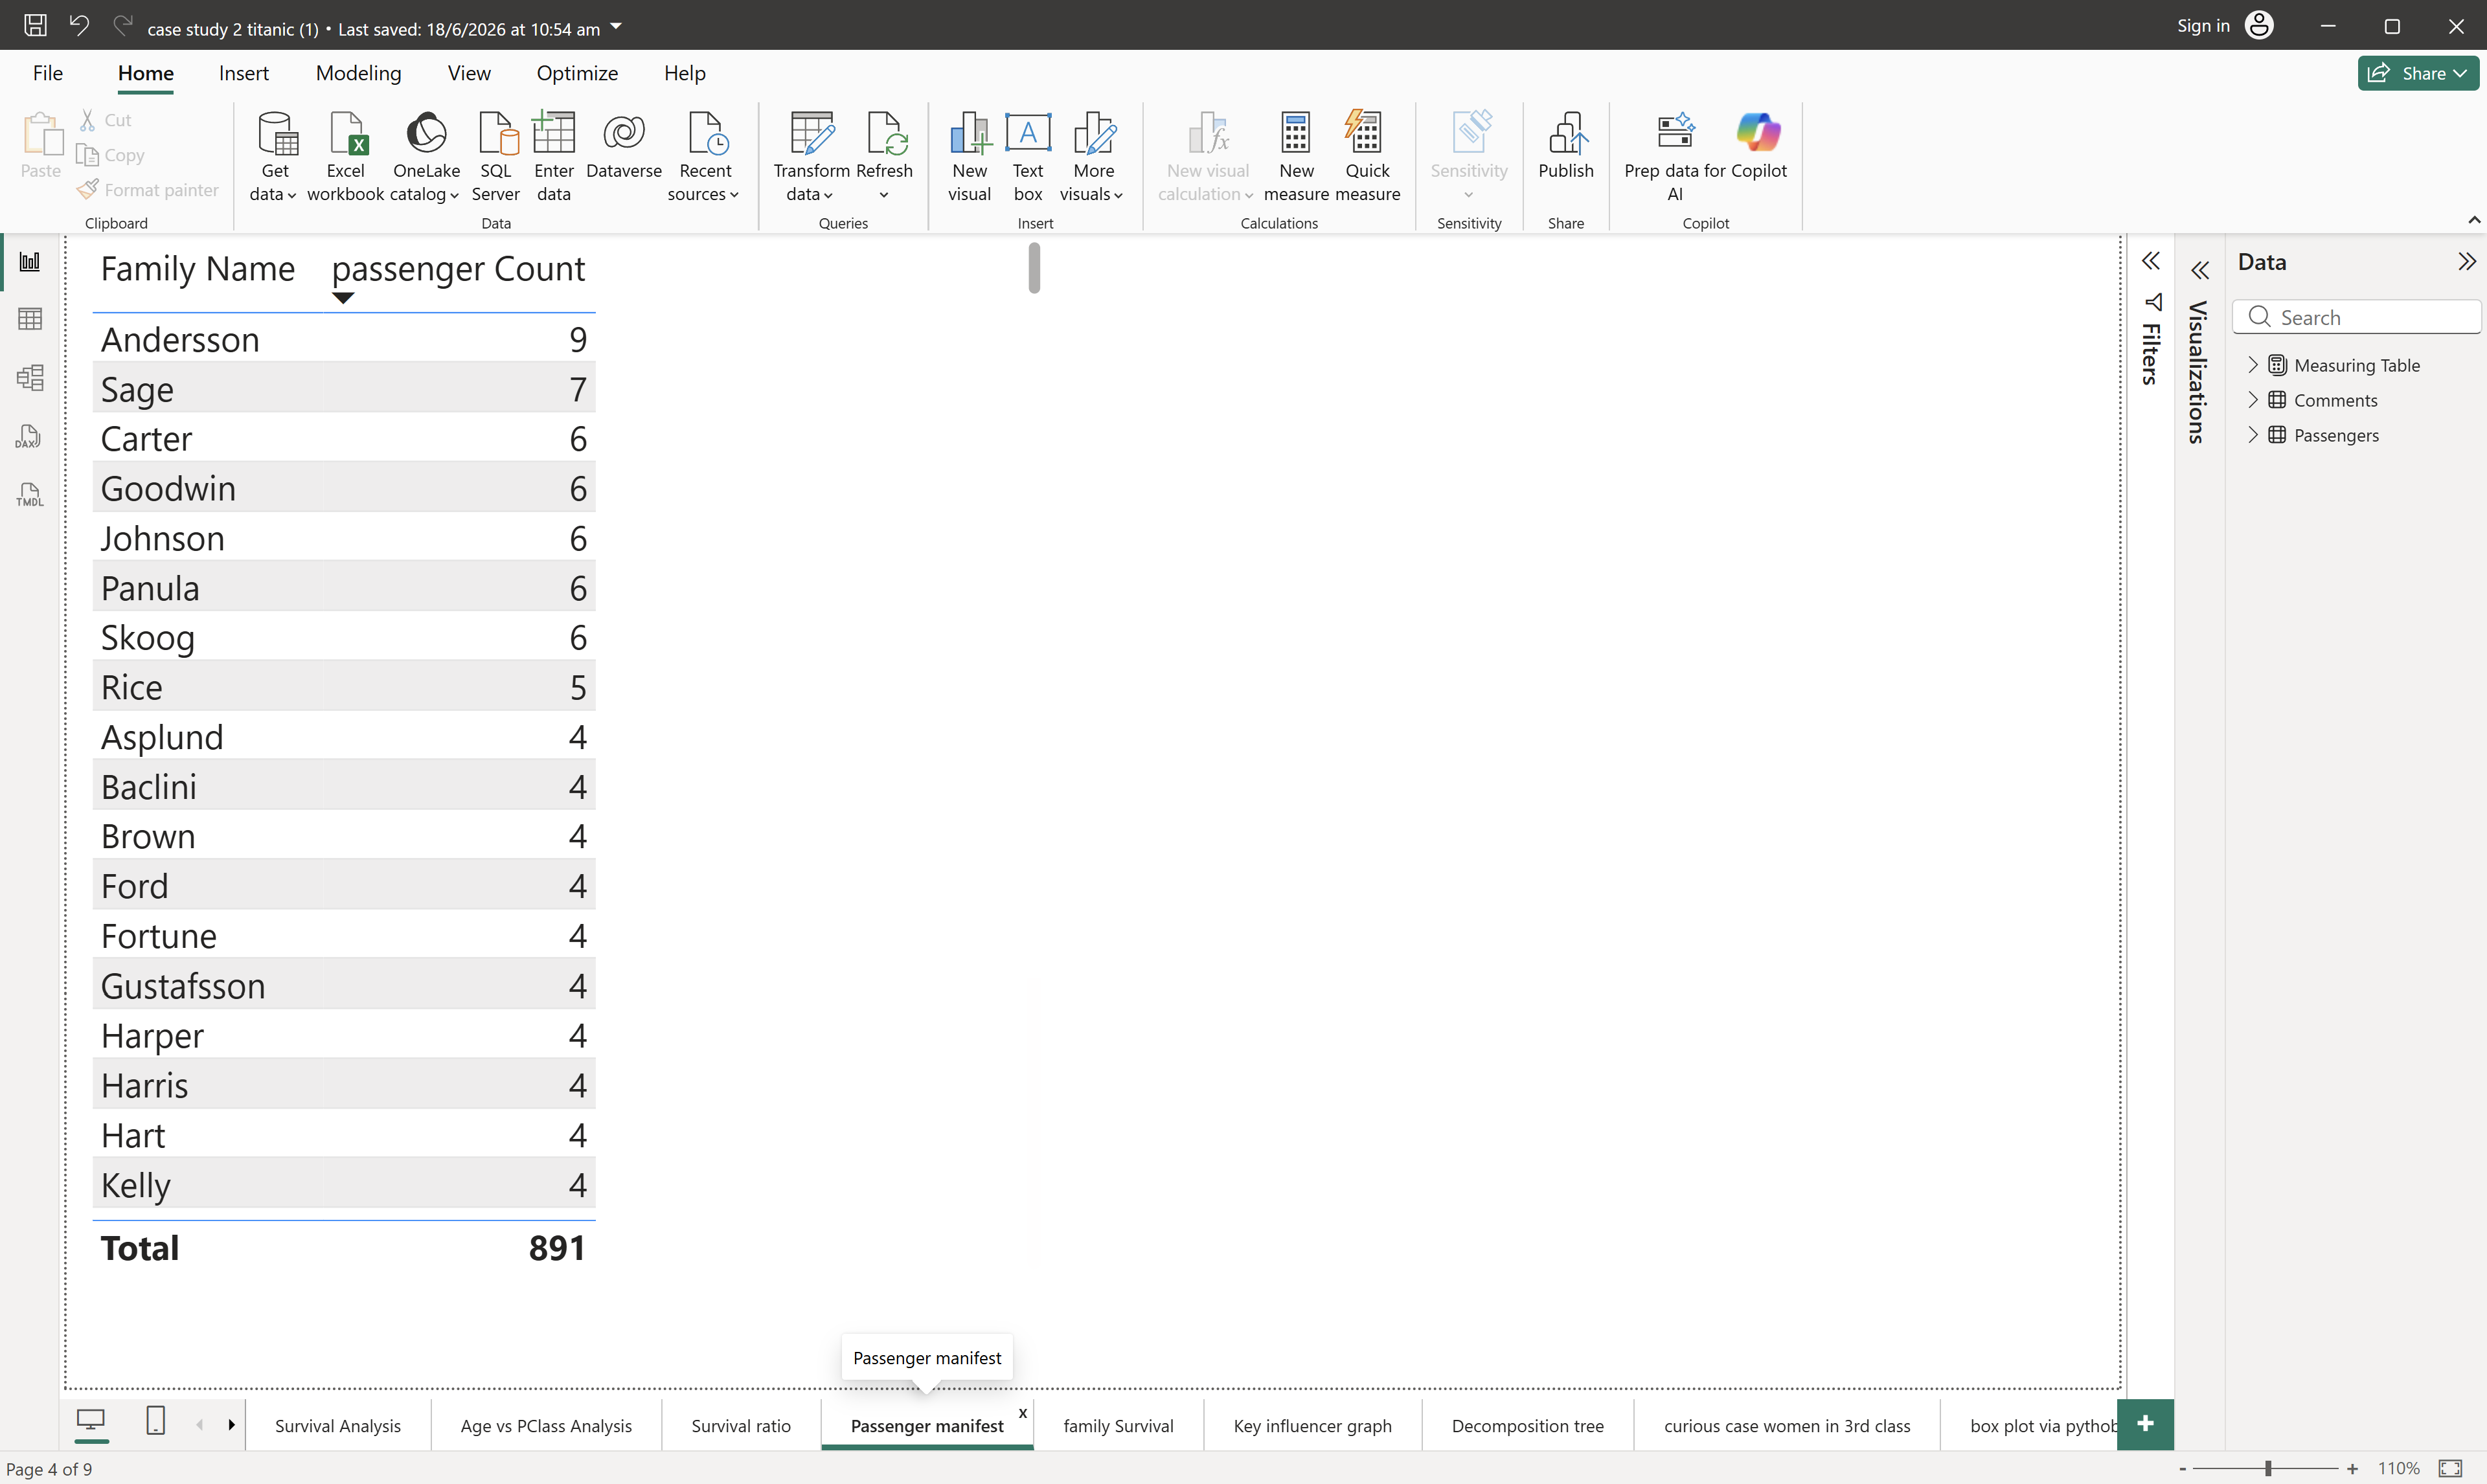

The page's visual inventory and layout, read from the dashboard file:
{"tool":"powerbi","page":{"name":"Passenger manifest","canvas":[1280,720],"ordinal":3},"visuals":[{"type":"tableEx","fields":{"Values":["Passengers.Family Name","Measuring Table.passenger Count"]},"box":[10,0,603.3,651.1],"z":0}]}

Visuals, with their boxes on the page's 1280x720 design canvas (x1, y1, x2, y2). These are canvas units, not pixel positions in the 2487x1484 screenshot, which may show the page scaled, cropped or inside an application window:
tableEx - Passengers.Family Name x Measuring Table.passenger Count: Rect(10, 0, 613, 651)
